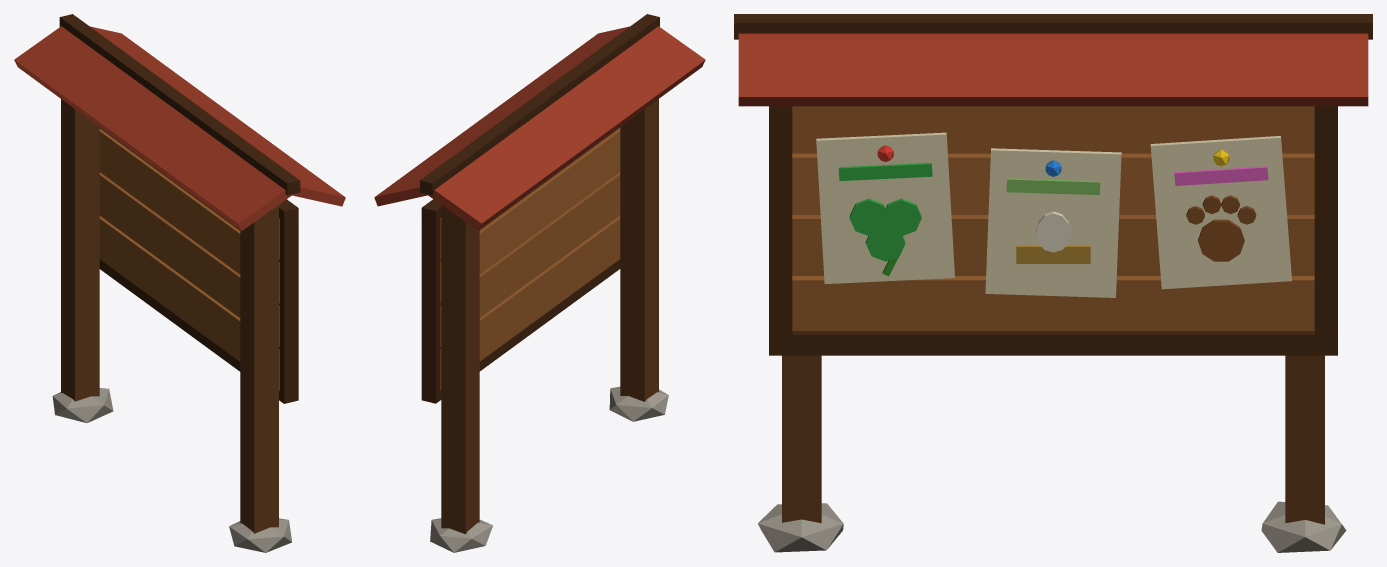
Rendered from upgrade_board.glb.
The picture shows the model from 3 angles, left to right: view 1: azimuth 30°, elevation 25°; view 2: azimuth 150°, elevation 25°; view 3: azimuth 270°, elevation 25°; orthographic projection. The views are drawn at different scales.
Parts seen in each view (by area): view 1: upgrade_board; view 2: upgrade_board; view 3: upgrade_board.
Boxes of the visible parts, x1,y1,x2,y2 form: upgrade_board: [14, 14, 345, 552]; upgrade_board: [374, 14, 705, 552]; upgrade_board: [734, 14, 1372, 552].
Size of the model in its own units: 0.7481 by 2.54 by 2.74.
